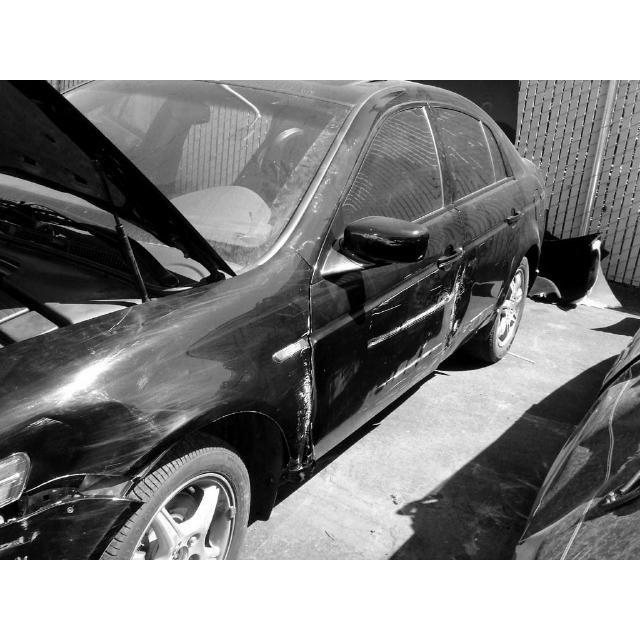fender-dent: (38, 318, 320, 559)
